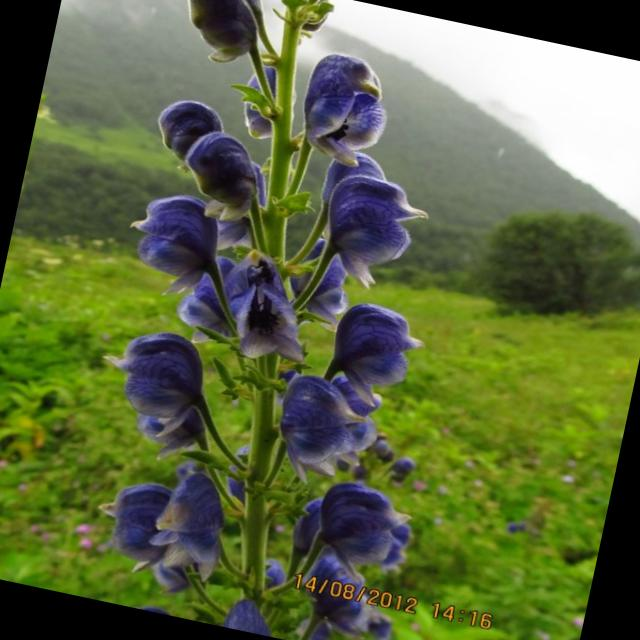Meetha: (48, 0, 640, 640), (57, 212, 446, 640), (100, 80, 453, 352), (153, 0, 429, 183)
